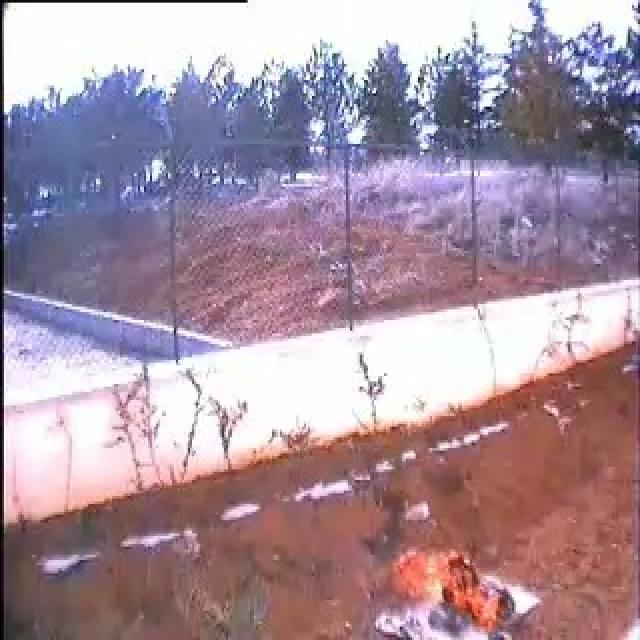fire: (403, 552, 512, 624)
